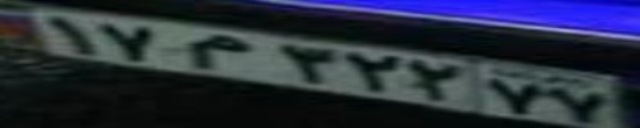1: (48, 16, 90, 55)
2: (412, 56, 462, 101), (349, 52, 398, 93)
3: (279, 45, 336, 85)
7: (549, 86, 612, 123), (485, 78, 540, 115), (101, 22, 148, 61)
mim: (184, 33, 244, 71)
